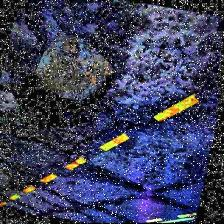pothole: (26, 26, 126, 114)
